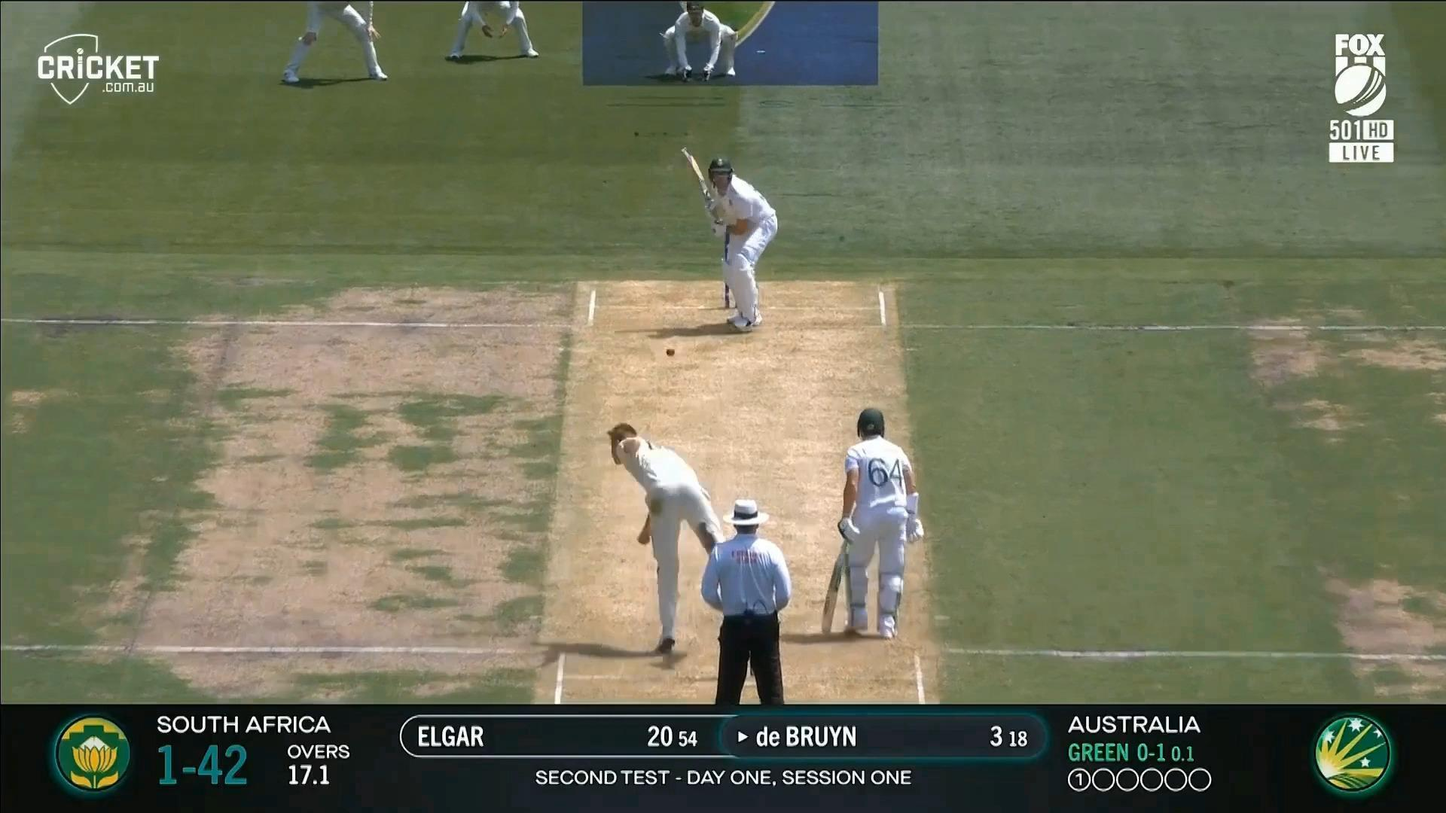BM 1: (680, 147, 779, 330)
BO: (608, 420, 725, 654)
